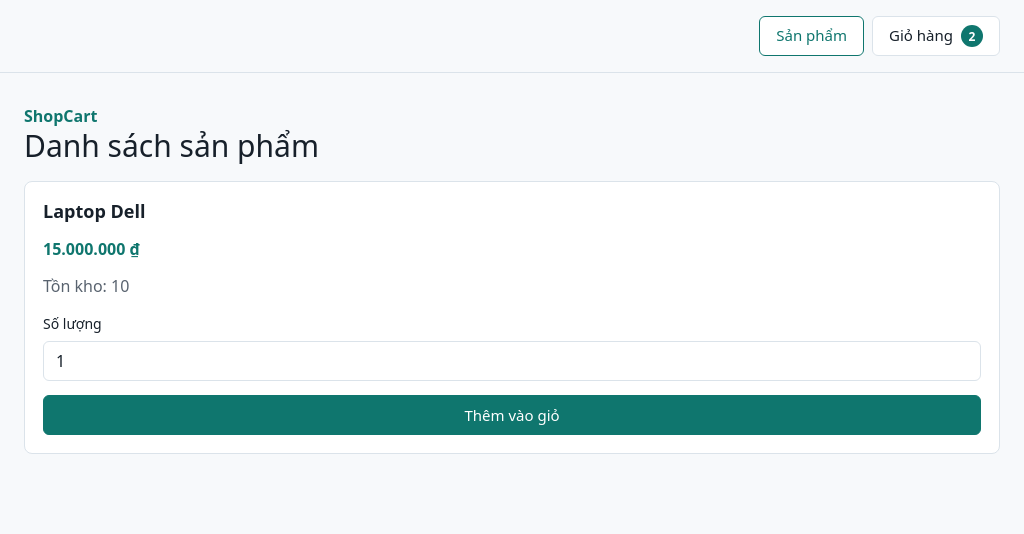
Test: Cart Mock Tests › Mock: them san pham that bai khi service tra loi loi
Replace the text in the number field with test id "quantity-input-P001" with "2": [512, 361] box [43,341,981,381]
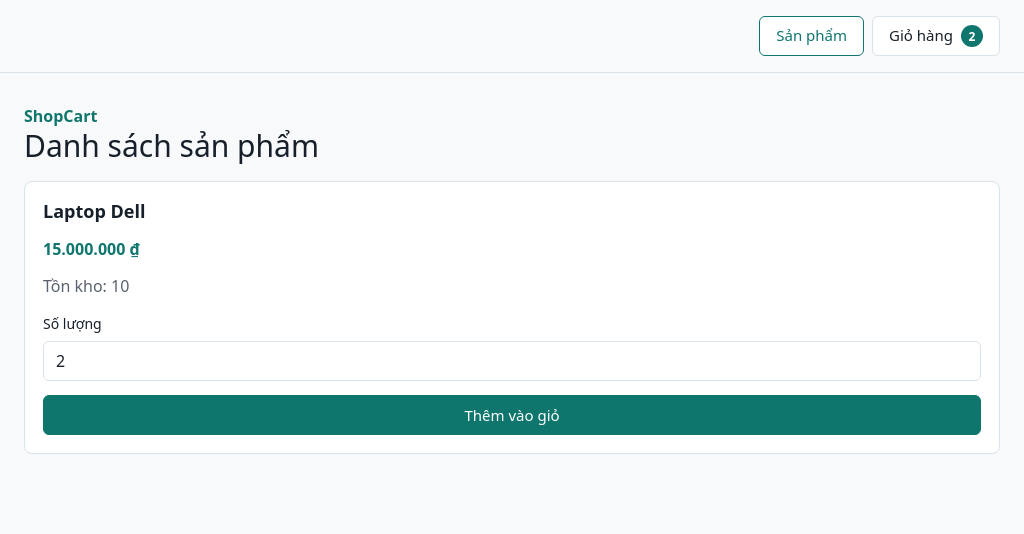
Click the button with test id "add-to-cart-P001": [512, 415] box [43,395,981,435]
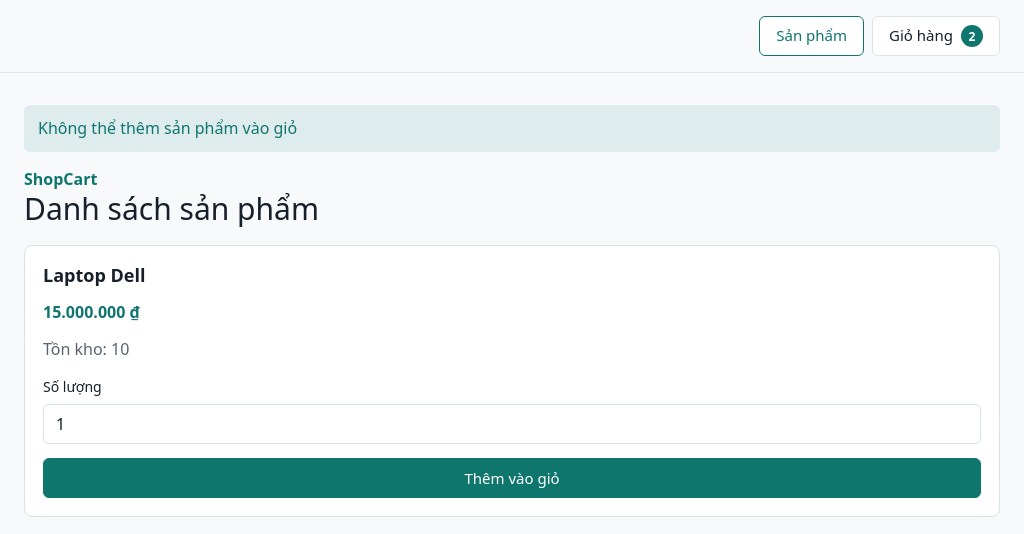
Result: the text "Không thể thêm sản phẩm vào giỏ" is shown at [24,105,1000,152]
